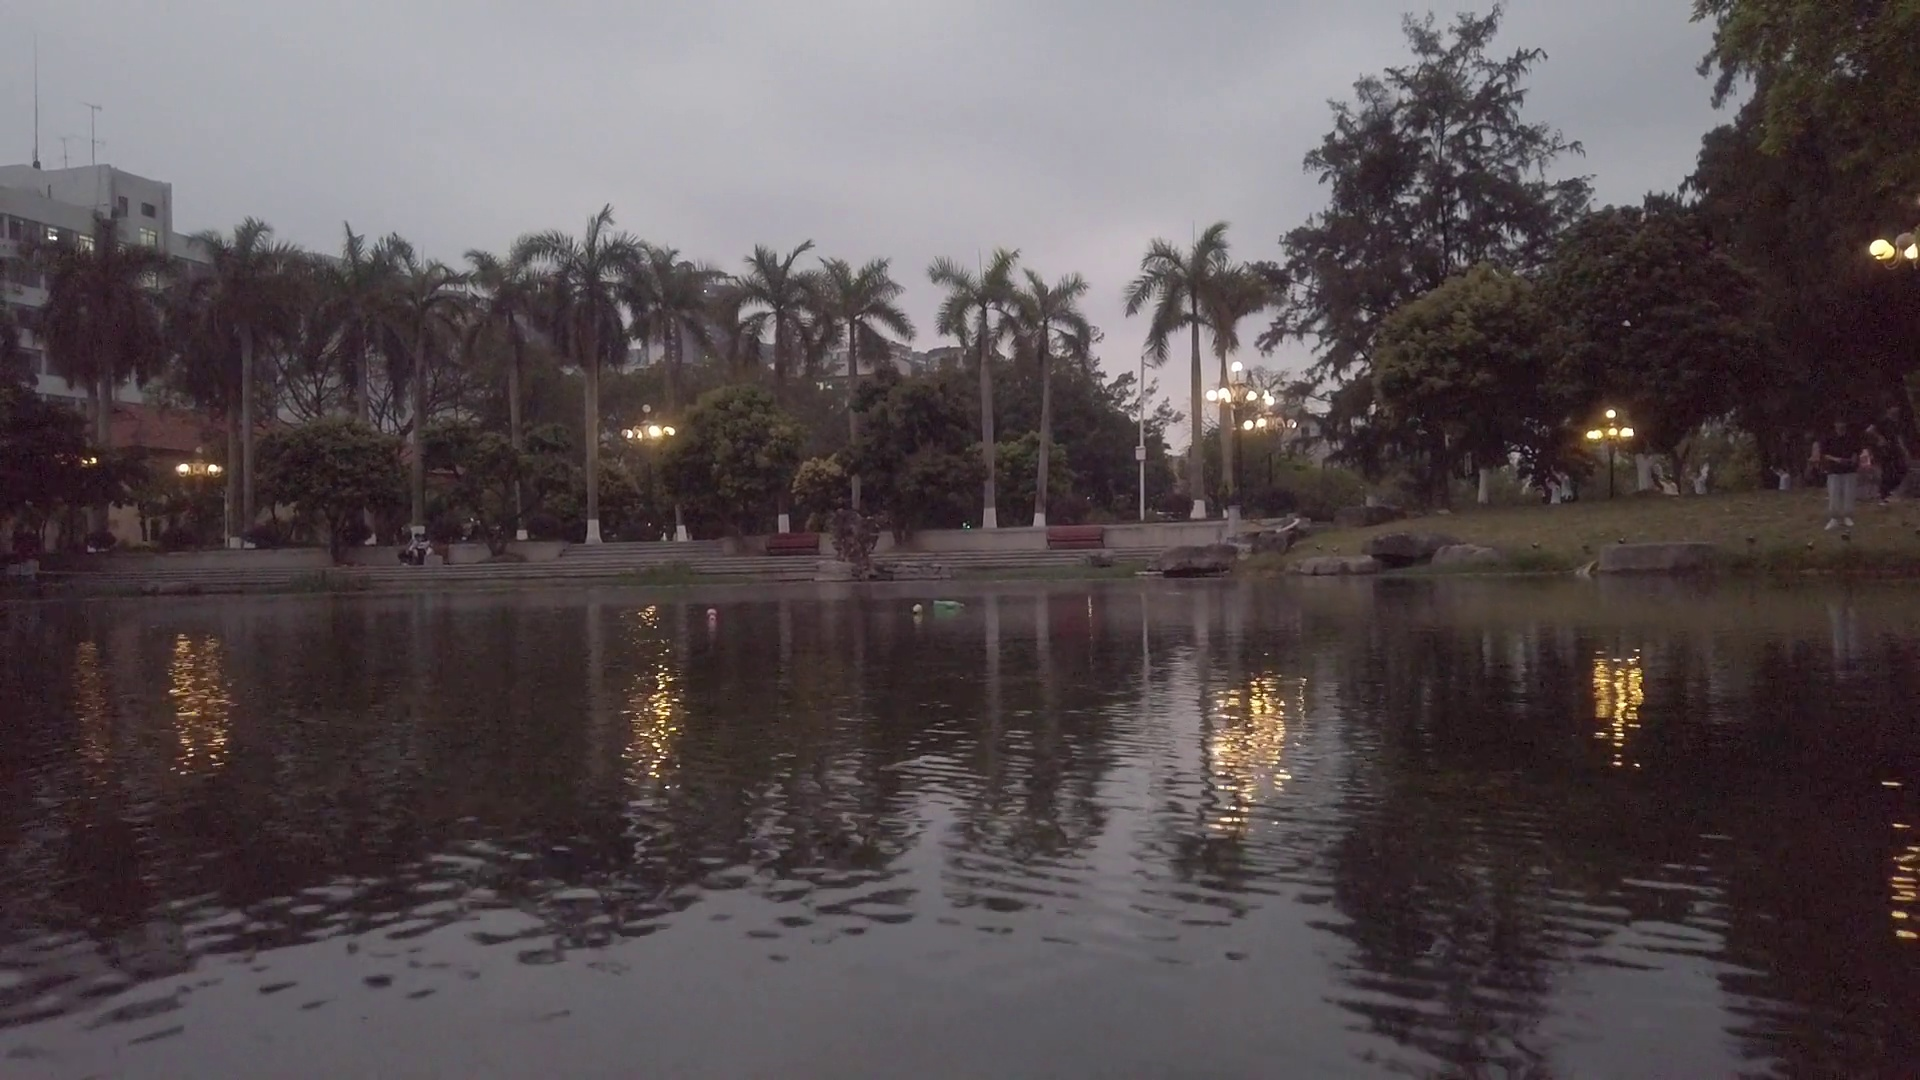bottle: (934, 597, 967, 611), (707, 609, 717, 622), (913, 603, 923, 615)
